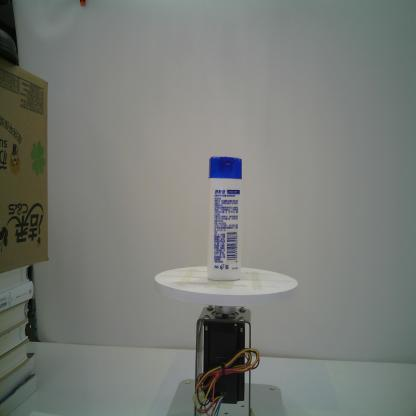Personal Hygiene: (205, 154, 244, 281)
